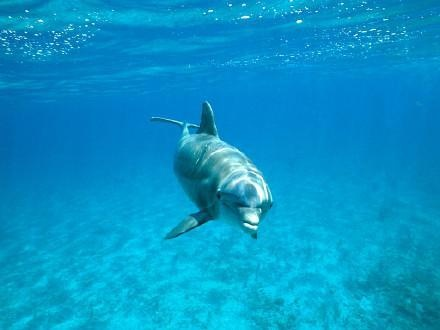fish: (146, 100, 276, 239)
